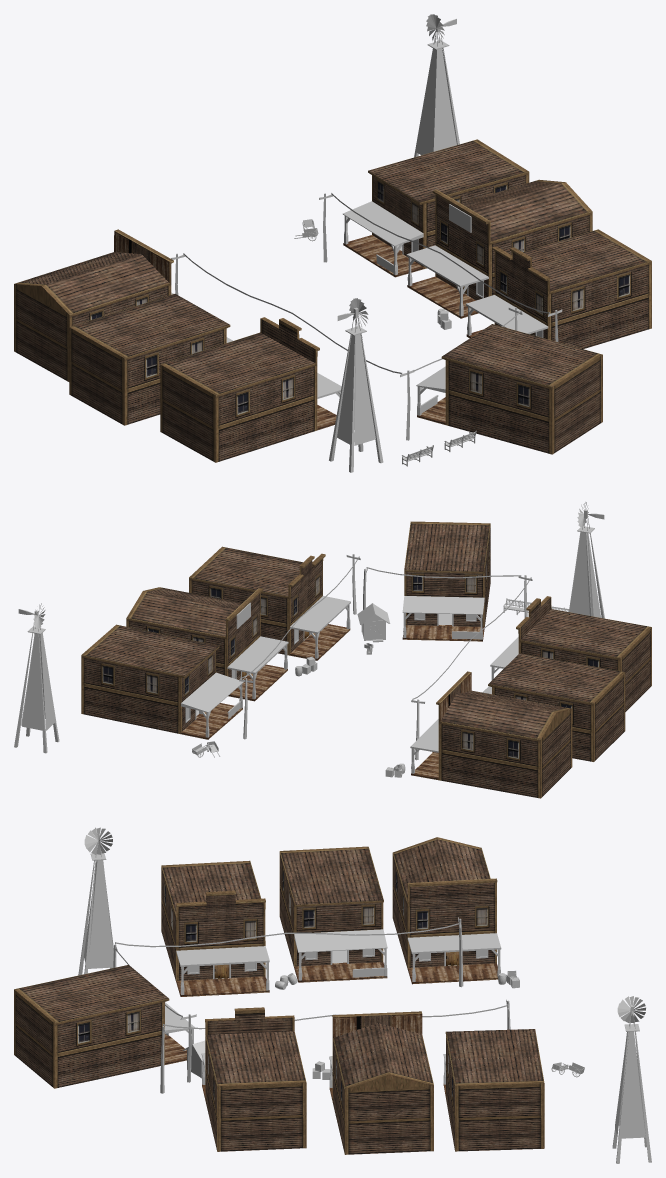
Rendered from mafia_building.fbx.
3 views of the same model, one above another, from view 1: azimuth 30°, elevation 25°; view 2: azimuth 150°, elevation 25°; view 3: azimuth 270°, elevation 25° (orthographic). The views are drawn at different scales.
Parts seen in each view (by area): view 1: house1, house5, house1_1, house2_1, house4, house3, house2, tower, tower_1, pole__3_1; view 2: house2, house3, house5, house1_1, house2_1, house4, house1, tower_1, tower, pole__3_1, house; view 3: house5, house2_1, house2, house1_1, house1, house4, house3, tower_1, tower, pole__3_1.
Part boxes in pixels (x1,y1,x2,y2): house1: (160,317,341,462); house5: (416,324,602,454); house1_1: (466,229,651,348); house2_1: (406,179,592,318); house4: (69,294,232,425); house3: (343,139,529,277); house2: (14,229,173,381); tower: (329,298,383,472); tower_1: (414,14,459,157); pole__3_1: (171,192,562,440); house2: (410,671,572,798); house3: (81,624,243,739); house5: (402,521,490,641); house1_1: (189,546,350,660); house2_1: (126,587,288,701); house4: (482,653,625,761); house1: (490,596,651,711); tower_1: (14,603,59,753); tower: (569,502,604,618); pole__3_1: (239,554,532,760); house: (357,603,390,642); house5: (14,965,194,1088); house2_1: (329,1011,433,1154); house2: (392,837,501,984); house1_1: (201,1007,306,1151); house1: (161,860,269,996); house4: (279,846,387,982); house3: (443,1029,544,1151); tower_1: (612,996,651,1163); tower: (78,827,113,975); pole__3_1: (113,917,510,1093).
Bounding box in the file's own units: 65.01 × 19.35 × 70.43.
